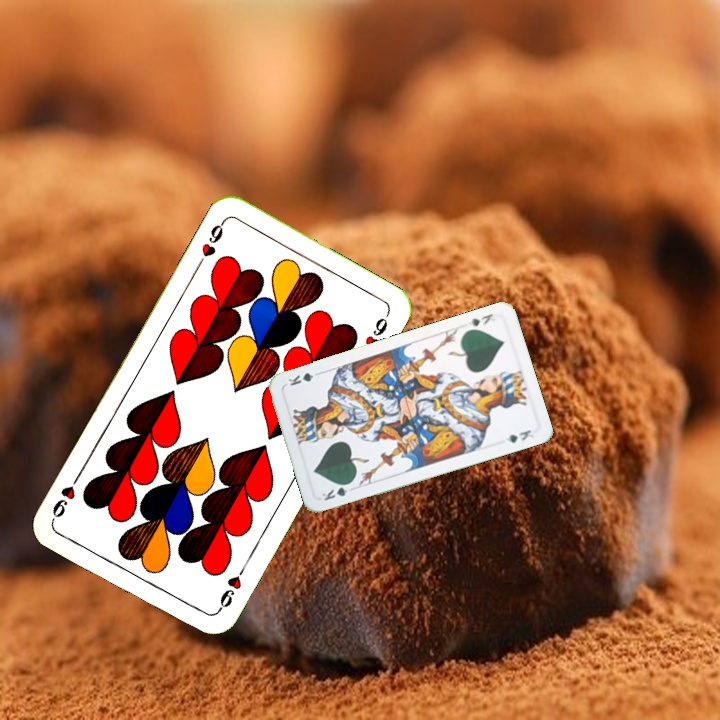GK: (318, 478, 355, 503), (464, 309, 495, 329)
H9: (212, 561, 248, 615), (193, 216, 228, 270)
